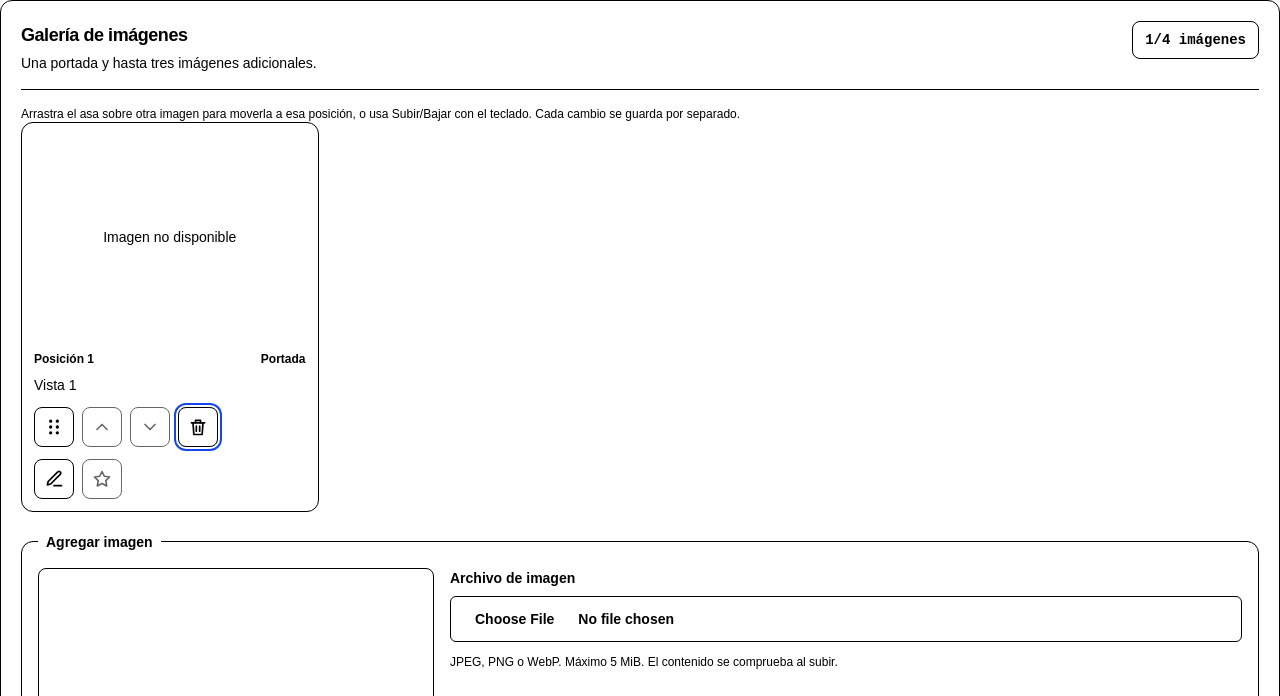
Test: confirmed gallery removal › allows an inactive product to lose its final cover and keeps focus usable
The image size is (1280, 696).
Click the button named "Eliminar Vista 1" at (198, 427), box [178,407,218,447]
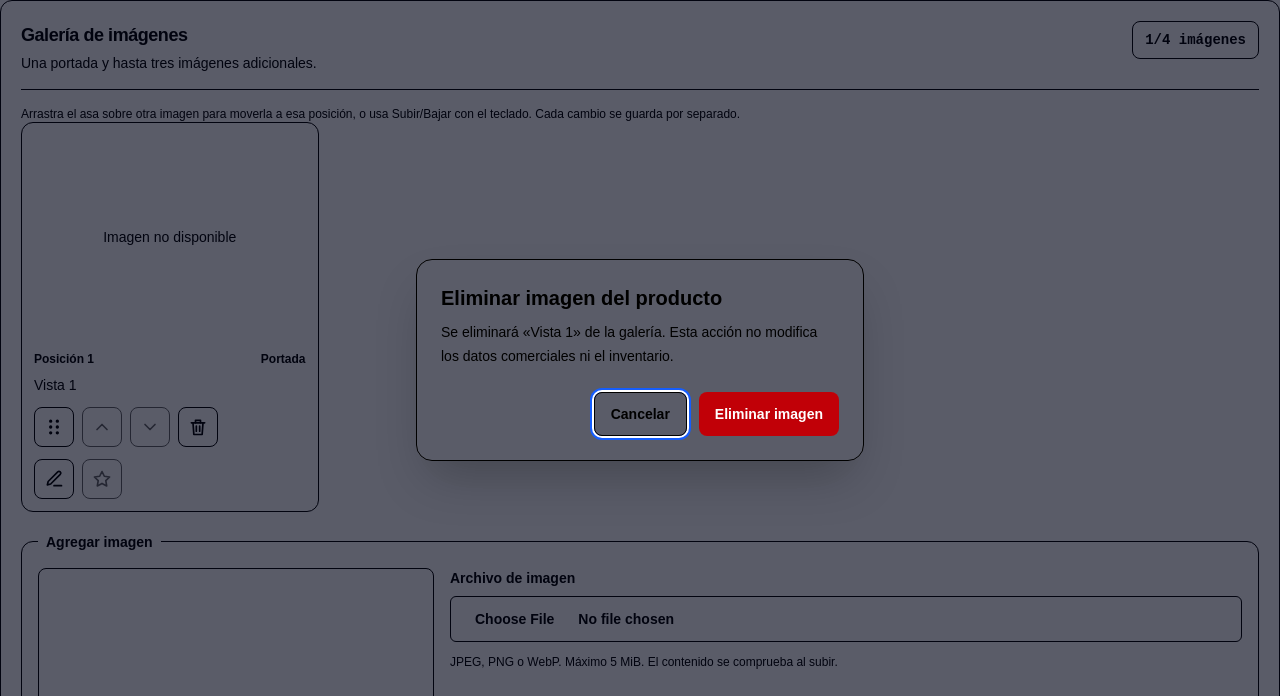
Expected: the dialog "Eliminar imagen del producto" is shown, [416,259,864,461]
Click the button "Eliminar imagen" at (769, 414), box [699,392,839,436]
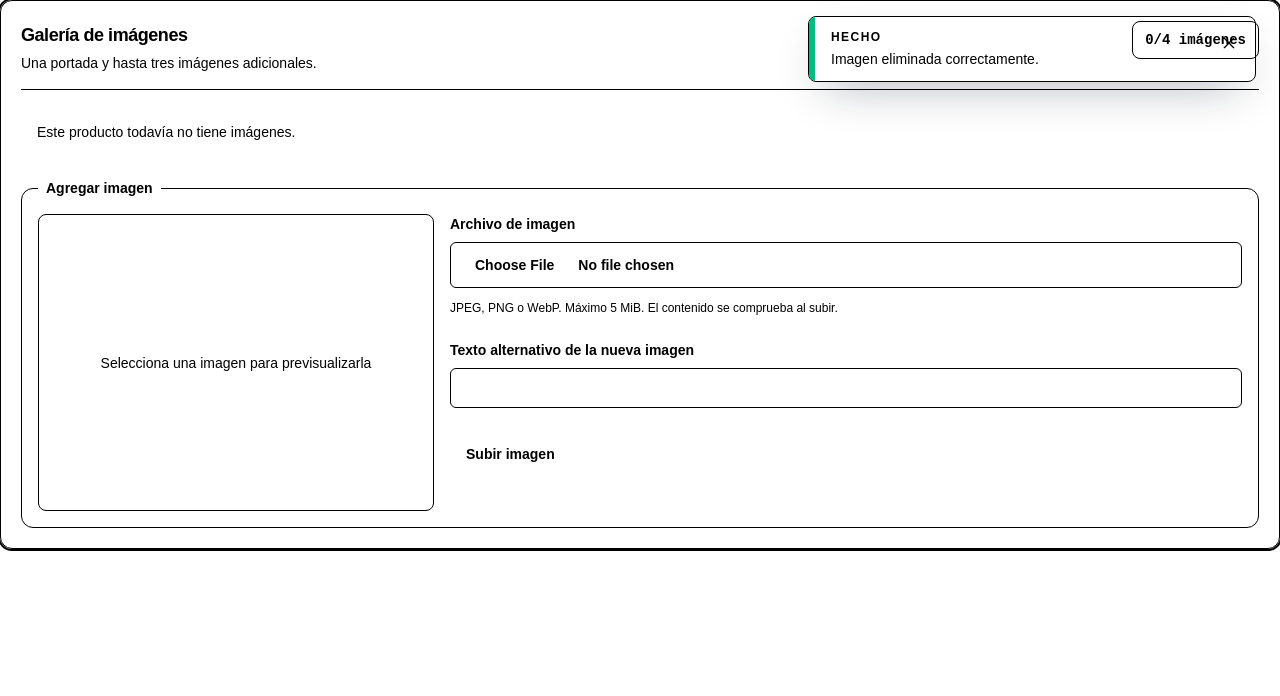
Expected: the file field labelled "Archivo de imagen" is enabled, [450,242,1242,288]
Expected: the text named "0 de 4 imágenes" is shown, [1132,21,1259,59]
Expected: the text "Este producto todavía no tiene imágenes." is shown, [37,124,295,140]
